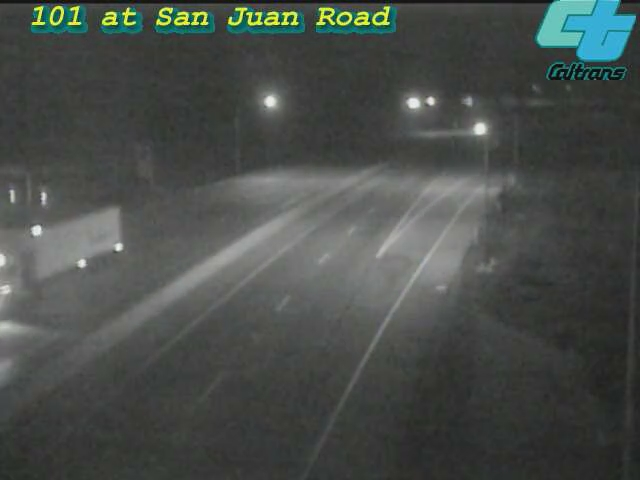vehicle: (13, 213, 93, 293), (453, 103, 503, 153)
